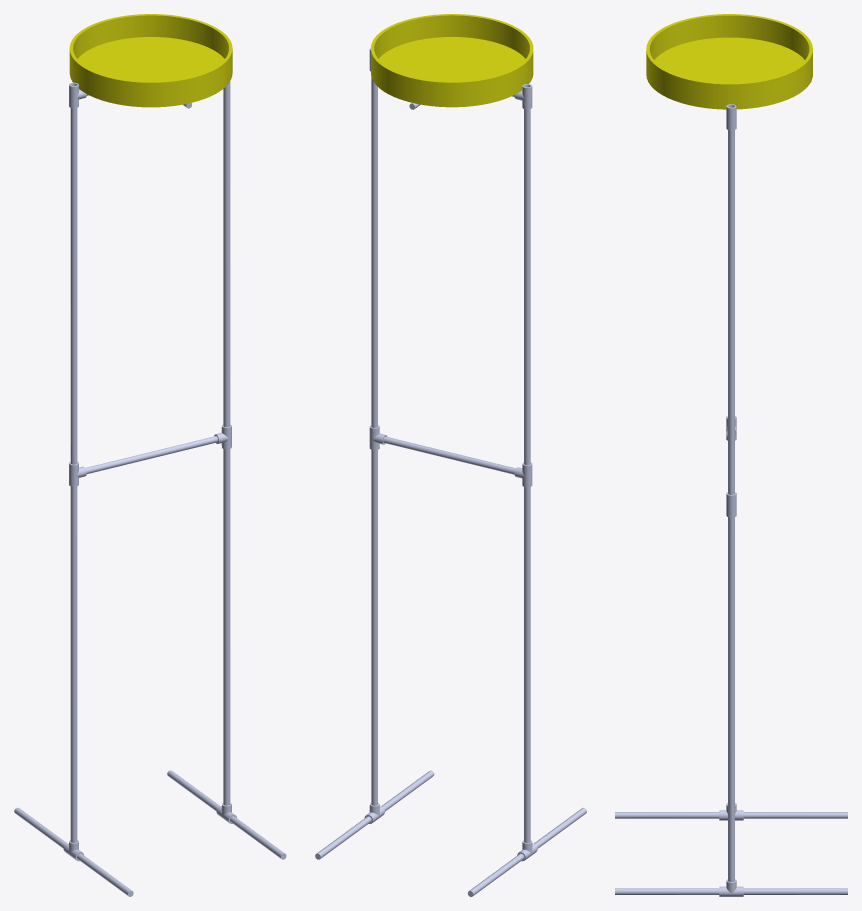
File: Garlic-task.obj
3 views of the same model, side by side, from view 1: azimuth 30°, elevation 25°; view 2: azimuth 150°, elevation 25°; view 3: azimuth 270°, elevation 25° (orthographic). The views are drawn at different scales.
Visible parts, largest first — view 1: Bryła21, Bryła7, Bryła8, Bryła13, Bryła12, Bryła11; view 2: Bryła21, Bryła13, Bryła7, Bryła8, Bryła12, Bryła11; view 3: Bryła21, Bryła8, Bryła12, Bryła3, Bryła4, Bryła5, Bryła6.
Part boxes in pixels (box(x1,y1,x2,y2)): Bryła21: box(69, 14, 232, 107); Bryła7: box(70, 486, 77, 842); Bryła8: box(223, 449, 230, 805); Bryła13: box(70, 108, 77, 464); Bryła12: box(223, 81, 230, 427); Bryła11: box(85, 436, 218, 473); Bryła21: box(371, 14, 533, 107); Bryła13: box(524, 109, 530, 465); Bryła7: box(524, 487, 530, 842); Bryła8: box(371, 449, 377, 805); Bryła12: box(371, 77, 377, 427); Bryła11: box(383, 436, 515, 474); Bryła21: box(646, 14, 812, 109); Bryła8: box(728, 517, 734, 882); Bryła12: box(728, 130, 734, 494); Bryła3: box(743, 812, 847, 818); Bryła4: box(615, 812, 719, 818); Bryła5: box(743, 888, 847, 894); Bryła6: box(615, 888, 719, 894).
Bounding box in the file's own units: 349 × 1632 × 425.
